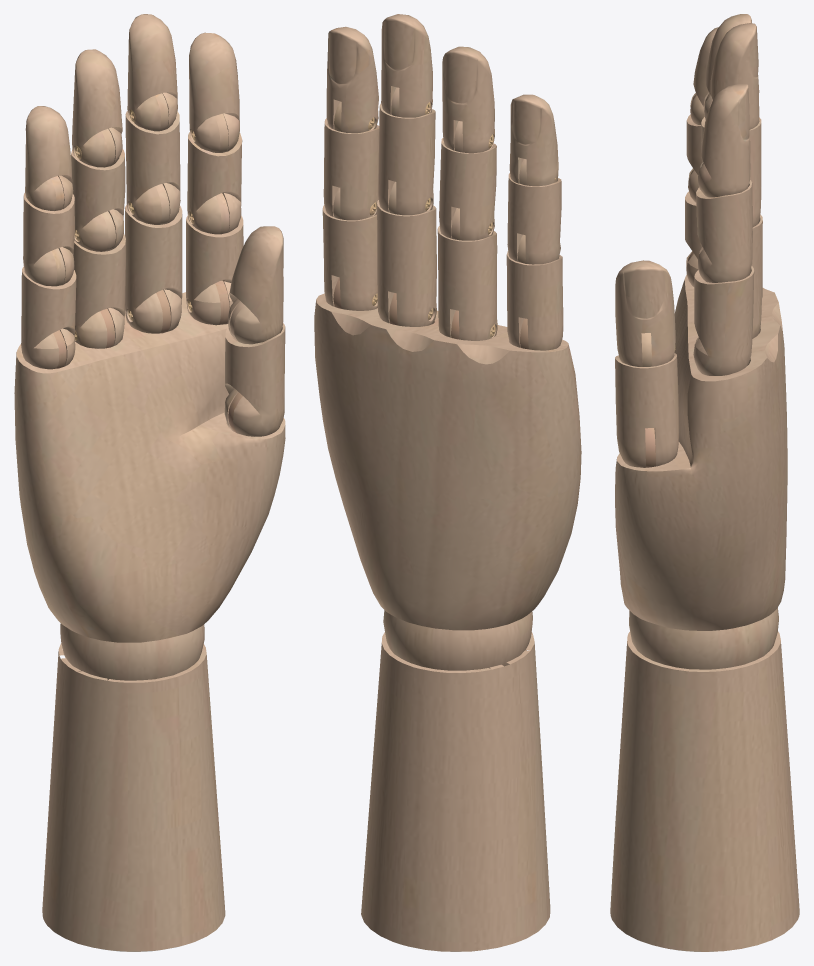
File: handskalad_ozdoba_don_90424146.glb
3 renders of one model, left to right at view 1: azimuth 30°, elevation 25°; view 2: azimuth 150°, elevation 25°; view 3: azimuth 270°, elevation 25°, orthographic. The views are drawn at different scales.
Visible parts, largest first — view 1: handskalad_ozdoba_don_90424146; view 2: handskalad_ozdoba_don_90424146; view 3: handskalad_ozdoba_don_90424146.
Part boxes in pixels (left/top/right/bottom): handskalad_ozdoba_don_90424146: left=14, top=14, right=285, bottom=951; handskalad_ozdoba_don_90424146: left=314, top=14, right=581, bottom=951; handskalad_ozdoba_don_90424146: left=610, top=14, right=799, bottom=951.
Size of the model in its own units: 0.0857 by 0.301 by 0.057.
Materials: 1 (1 with a texture image).
